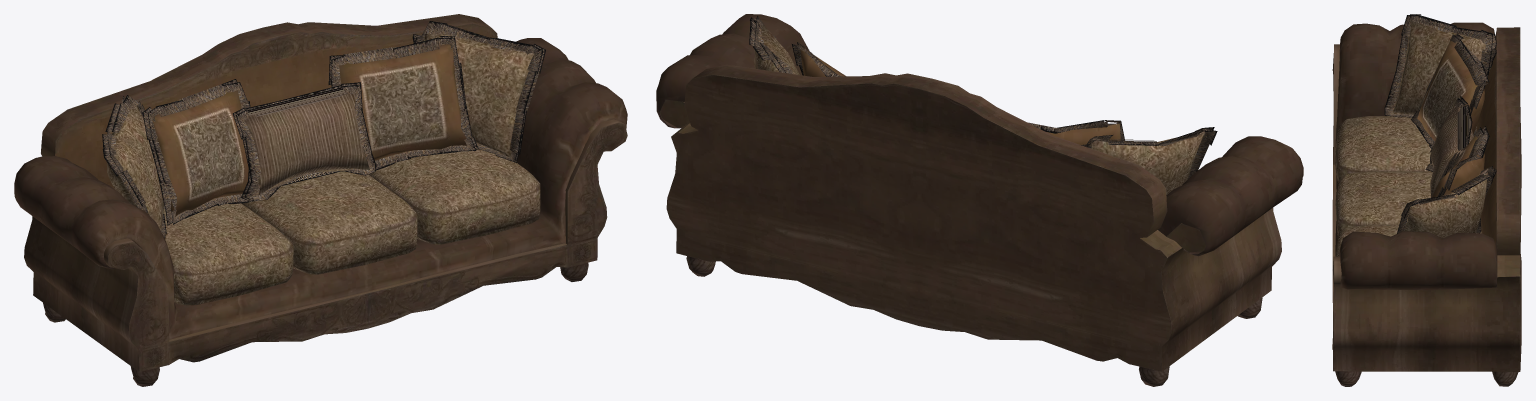
The model's file is prop-sofa-028bebfd.glb.
3 views of the same model, side by side, from view 1: azimuth 30°, elevation 25°; view 2: azimuth 150°, elevation 25°; view 3: azimuth 270°, elevation 25° (orthographic). The views are drawn at different scales.
Visible parts, largest first — view 1: sofa_03; view 2: sofa_03; view 3: sofa_03.
Part boxes in pixels (box(x1,y1,x2,y2)): sofa_03: box(14, 14, 627, 386); sofa_03: box(656, 14, 1303, 386); sofa_03: box(1332, 14, 1521, 386).
Size of the model in its own units: 2.73 by 1.12 by 0.9251.
Materials: 2 (2 with a texture image).
